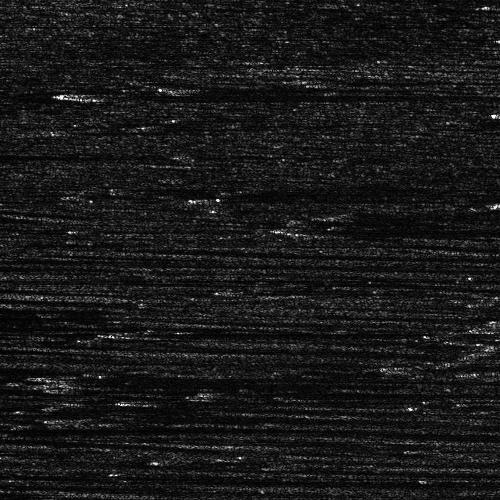object: (439, 195, 500, 210), (10, 378, 103, 387), (47, 91, 130, 100), (155, 82, 228, 91), (475, 324, 500, 335), (480, 312, 500, 325), (30, 373, 71, 378), (127, 329, 148, 334), (289, 391, 300, 400)
shadow: (0, 316, 187, 337), (89, 91, 465, 100), (192, 82, 424, 91), (138, 329, 361, 334), (0, 147, 86, 158), (0, 426, 93, 435), (295, 391, 371, 400), (57, 378, 130, 387), (300, 228, 500, 231), (51, 373, 123, 378), (0, 262, 37, 269)
